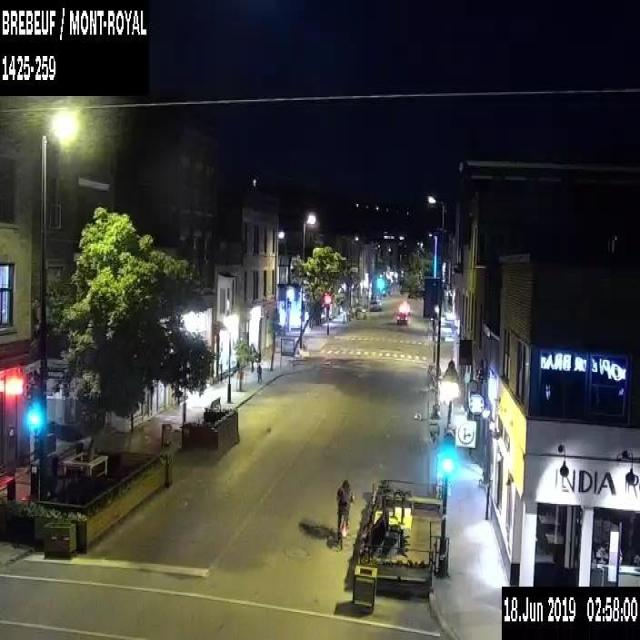cyclist: (334, 478, 354, 550)
pedestrian: (256, 363, 262, 384)
vehicle: (395, 307, 409, 324), (369, 297, 383, 311)
